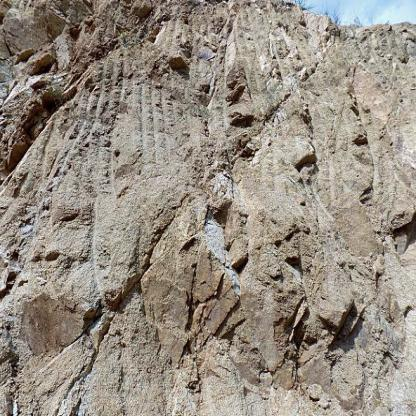Sedimentary_Limestone: (291, 182, 364, 330), (0, 82, 45, 152), (5, 6, 56, 57)
